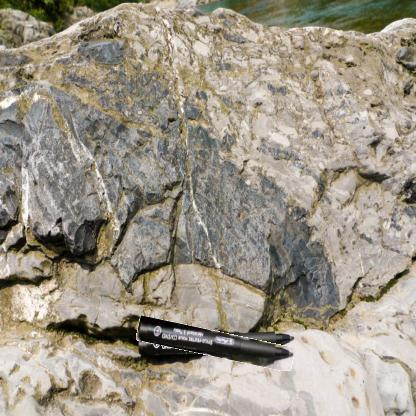Pen: (137, 323, 295, 364)
